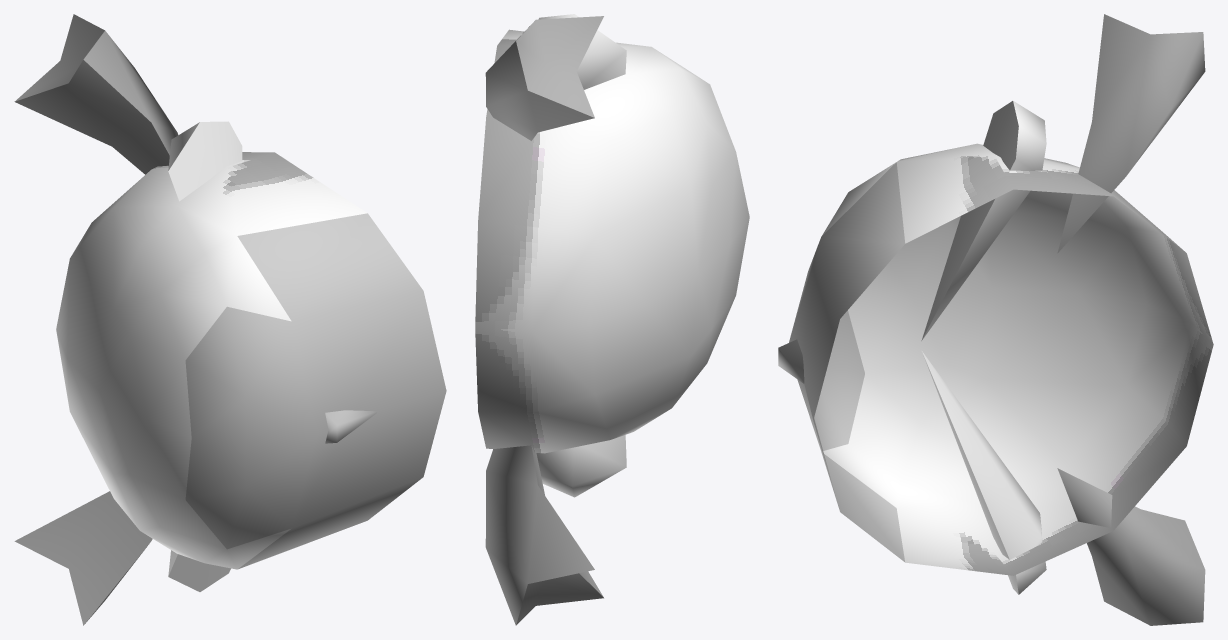
The model's file is girl02b.dae.
3 views of the same model, side by side, from view 1: azimuth 30°, elevation 25°; view 2: azimuth 150°, elevation 25°; view 3: azimuth 270°, elevation 25° (orthographic). The views are drawn at different scales.
Visible parts, largest first — view 1: vsn_mesh_0_, vsn_mesh_1_, vsn_mesh_2_; view 2: vsn_mesh_0_; view 3: vsn_mesh_0_, vsn_mesh_1_, vsn_mesh_2_.
Boxes of the visible parts, box(x1,y1,x2,y2) form: vsn_mesh_0_: box(14, 14, 367, 625); vsn_mesh_1_: box(237, 213, 446, 569); vsn_mesh_2_: box(185, 306, 316, 549); vsn_mesh_0_: box(475, 14, 749, 625); vsn_mesh_0_: box(821, 14, 1213, 625); vsn_mesh_1_: box(778, 162, 905, 562); vsn_mesh_2_: box(789, 239, 864, 450).
Size of the model in its own units: 15.5 by 32.37 by 21.59.
Materials: 3 (1 with a texture image).
